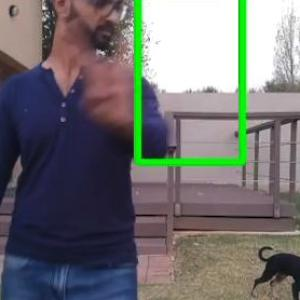takeoff-hand: (76, 40, 140, 131)
